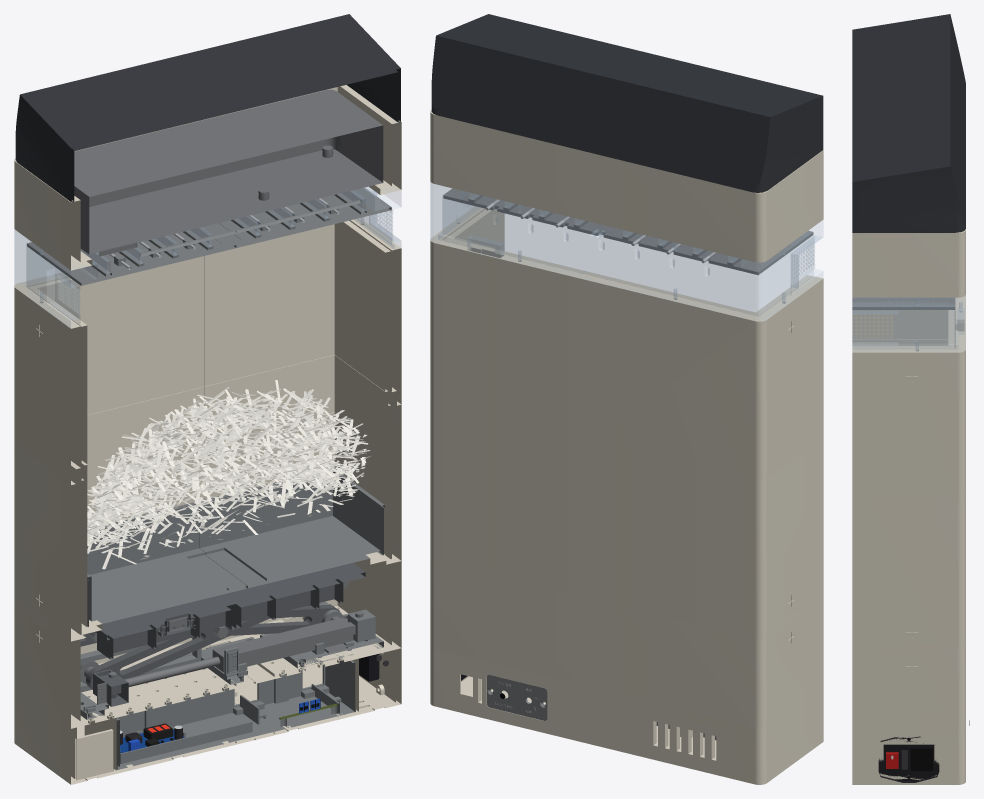
The picture shows the model from 3 angles, left to right: view 1: azimuth 30°, elevation 25°; view 2: azimuth 150°, elevation 25°; view 3: azimuth 270°, elevation 25°; orthographic projection. The views are drawn at different scales.
Parts seen in each view (by area): view 1: s2_bin, head, s2_paper, s2_outer, s2_tray, lift_접힘, s1_box, s3, s0_drawer, s0_fixed, s4, s1_liftfix; view 2: s2_outer, head, s1_box, s4, s3, s0_fixed, s2_bin; view 3: s2_outer, head, s1_box, s4, s0_fixed, s3, s2_bin.
Boxes of the visible parts, <box> form: s2_bin: <box>28,220,390,634</box>; head: <box>15,14,400,256</box>; s2_paper: <box>87,380,370,569</box>; s2_outer: <box>14,218,401,641</box>; s2_tray: <box>87,468,384,626</box>; lift_접힘: <box>80,563,365,706</box>; s1_box: <box>14,554,401,728</box>; s3: <box>14,185,400,327</box>; s0_drawer: <box>116,660,355,769</box>; s0_fixed: <box>14,619,401,784</box>; s4: <box>14,85,401,270</box>; s1_liftfix: <box>80,601,383,719</box>; s2_outer: <box>430,206,823,639</box>; head: <box>431,14,823,192</box>; s1_box: <box>430,558,823,727</box>; s4: <box>430,110,823,262</box>; s3: <box>430,182,822,321</box>; s0_fixed: <box>430,647,823,784</box>; s2_bin: <box>444,209,812,316</box>; s2_outer: <box>852,295,965,648</box>; head: <box>852,14,965,232</box>; s1_box: <box>852,647,965,731</box>; s4: <box>852,229,965,297</box>; s0_fixed: <box>852,720,969,784</box>; s3: <box>852,296,965,352</box>; s2_bin: <box>852,310,954,348</box>.
Bounding box in the file's own units: 0.3517 × 0.651 × 0.1118.
